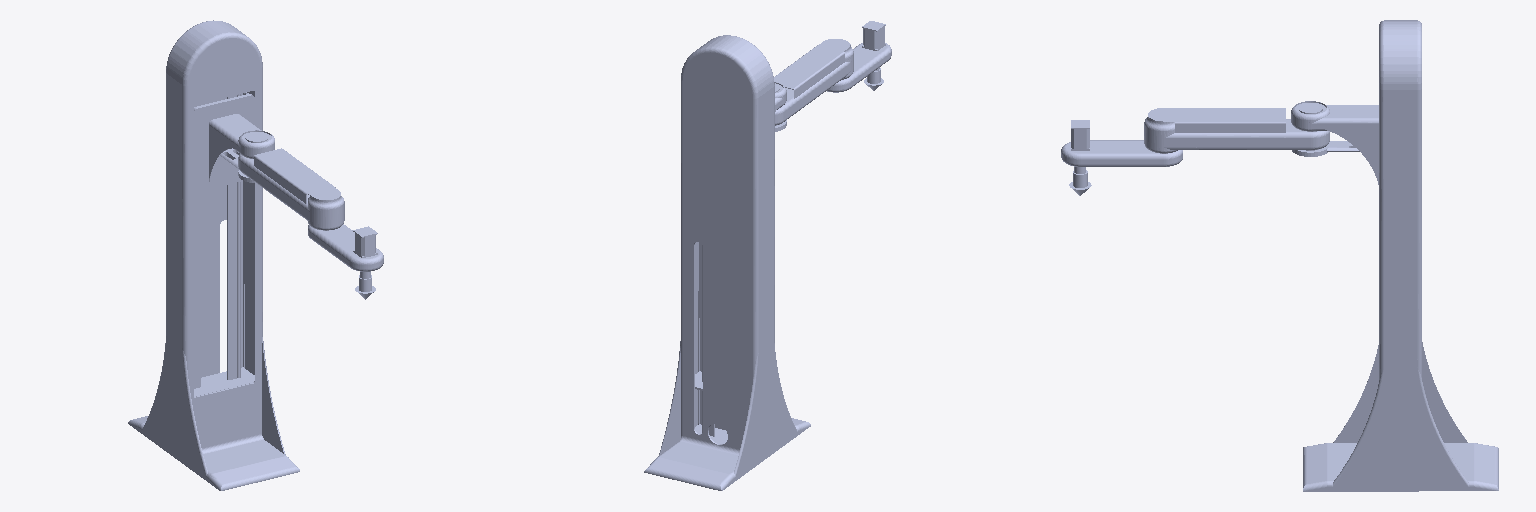
The robot description file, URDF, robot "igus_description":
<?xml version="1.0" encoding="utf-8"?>
<!-- This URDF was automatically created by SolidWorks to URDF Exporter! Originally created by [author] ([email redacted]) 
     Commit Version: 1.6.0-4-g7f85cfe  Build Version: 1.6.7995.38578
     For more information, please see http://wiki.ros.org/sw_urdf_exporter -->
<robot
  name="igus_description">

  <link name="world"/>

  <joint name="base_joint" type="fixed">
    <parent link="world"/>
    <child link="base_link"/>
    <origin rpy="0 0 3.142" xyz="0.0 0.0 0.0"/>
  </joint>

  <link
    name="base_link">
    <inertial>
      <origin
        xyz="0.00060987 -0.0041281 0.28783"
        rpy="0 0 0" />
      <!--<mass
        value="3.8503" />-->
        <mass
        value="10" />
      <inertia
        ixx="0.41874"
        ixy="8.8766E-05"
        ixz="-6.9146E-06"
        iyy="0.41533"
        iyz="0.0042277"
        izz="0.038257" />
    </inertial>
    <visual>
      <origin
        xyz="0 0 0"
        rpy="0 0 0" />
      <geometry>
        <mesh
          filename="package://igus_description/meshes/base_link.STL" />
      </geometry>
      <material
        name="">
        <color
          rgba="0.79216 0.81961 0.93333 1" />
      </material>
    </visual>
    <collision>
      <origin
        xyz="0 0 0"
        rpy="0 0 0" />
      <geometry>
        <mesh
          filename="package://igus_description/meshes/base_link.STL" />
      </geometry>
    </collision>
  </link>
  <link
    name="prism_link">
    <inertial>
      <origin
        xyz="0.098545 1.5436E-08 0.029147"
        rpy="0 0 0" />
      <mass
        value="0.82467" />
      <inertia
        ixx="0.0024655"
        ixy="-3.8705E-10"
        ixz="-0.00050705"
        iyy="0.0033628"
        iyz="1.2294E-10"
        izz="0.0025901" />
    </inertial>
    <visual>
      <origin
        xyz="0 0 0"
        rpy="0 0 0" />
      <geometry>
        <mesh
          filename="package://igus_description/meshes/prism_link.STL" />
      </geometry>
      <material
        name="">
        <color
          rgba="0.79216 0.81961 0.93333 1" />
      </material>
    </visual>
    <collision>
      <origin
        xyz="0 0 0"
        rpy="0 0 0" />
      <geometry>
        <mesh
          filename="package://igus_description/meshes/prism_link.STL" />
      </geometry>
    </collision>
  </link>
  <joint
    name="prism_joint"
    type="prismatic">
    <origin
      xyz="0 0 0.74133"
      rpy="0 0 1.5708" />
    <parent
      link="base_link" />
    <child
      link="prism_link" />
    <axis
      xyz="0 0 -1" />
    <limit
      lower="0"
      upper="0.495"
      effort="100000"
      velocity="5" />
    <dynamics
      damping="0.1"
      friction="0.1" />
  </joint>
  <link
    name="rot_1_link">
    <inertial>
      <origin
        xyz="0.16926 -3.5483E-07 0.020067"
        rpy="0 0 0" />
      <mass
        value="1.3165" />
      <inertia
        ixx="0.00098867"
        ixy="-1.6132E-08"
        ixz="-0.00030206"
        iyy="0.015621"
        iyz="1.2571E-08"
        izz="0.01592" />
    </inertial>
    <visual>
      <origin
        xyz="0 0 0"
        rpy="0 0 0" />
      <geometry>
        <mesh
          filename="package://igus_description/meshes/rot_1_link.STL" />
      </geometry>
      <material
        name="">
        <color
          rgba="0.79216 0.81961 0.93333 1" />
      </material>
    </visual>
    <collision>
      <origin
        xyz="0 0 0"
        rpy="0 0 0" />
      <geometry>
        <mesh
          filename="package://igus_description/meshes/rot_1_link.STL" />
      </geometry>
    </collision>
  </link>
  <joint
    name="rot_1_joint"
    type="revolute">
    <origin
      xyz="0.184 0 0"
      rpy="0 0 0" />
    <parent
      link="prism_link" />
    <child
      link="rot_1_link" />
    <axis
      xyz="0 0 1" />
    <limit
      lower="-1.57"
      upper="1.57"
      effort="100000"
      velocity="5" />
    <dynamics
      damping="0.1"
      friction="0.1" />
  </joint>
  <link
    name="rot_2_link">
    <inertial>
      <origin
        xyz="0.10239 -1.6692E-17 -0.024764"
        rpy="0 0 0" />
      <mass
        value="0.66429" />
      <inertia
        ixx="0.00032966"
        ixy="-3.0928E-20"
        ixz="-8.2328E-06"
        iyy="0.0024737"
        iyz="-4.0017E-21"
        izz="0.0026703" />
    </inertial>
    <visual>
      <origin
        xyz="0 0 0"
        rpy="0 0 0" />
      <geometry>
        <mesh
          filename="package://igus_description/meshes/rot_2_link.STL" />
      </geometry>
      <material
        name="">
        <color
          rgba="0.79216 0.81961 0.93333 1" />
      </material>
    </visual>
    <collision>
      <origin
        xyz="0 0 0"
        rpy="0 0 0" />
      <geometry>
        <mesh
          filename="package://igus_description/meshes/rot_2_link.STL" />
      </geometry>
    </collision>
  </link>
  <joint
    name="rot_2_joint"
    type="revolute">
    <origin
      xyz="0.3 0 0"
      rpy="0 0 0" />
    <parent
      link="rot_1_link" />
    <child
      link="rot_2_link" />
    <axis
      xyz="0 0 1" />
    <limit
      lower="-1.57"
      upper="1.57"
      effort="100000"
      velocity="5" />
    <dynamics
      damping="0.1"
      friction="0.1" />
  </joint>
  <link
    name="tcp_link">
    <inertial>
      <origin
        xyz="-0.51654 0.00035286 0.13491"
        rpy="0 0 0" />
      <mass
        value="6.6558" />
      <inertia
        ixx="0.79615"
        ixy="0.00042314"
        ixz="0.24301"
        iyy="1.093"
        iyz="-0.00047912"
        izz="0.33517" />
    </inertial>
    <visual>
      <origin
        xyz="0 0 0"
        rpy="0 0 0" />
      <geometry>
        <mesh
          filename="package://igus_description/meshes/tcp_link.STL" />
      </geometry>
      <material
        name="">
        <color
          rgba="1 1 1 1" />
      </material>
    </visual>
    <collision>
      <origin
        xyz="0 0 0"
        rpy="0 0 0" />
      <geometry>
        <mesh
          filename="package://igus_description/meshes/tcp_link.STL" />
      </geometry>
    </collision>
  </link>
  <joint
    name="tcp_joint"
    type="fixed">
    <!-- <origin
      xyz="0.17077 0 -0.12233"
      rpy="3.1416 0 0" /> -->
      <origin
      xyz="0.17077 0 -0.12233"
      rpy="0 0 0" /> 
    <parent
      link="rot_2_link" />
    <child
      link="tcp_link" />
    <axis
      xyz="0 0 0" />
  </joint>

  <transmission name="prism_link_trans">
    <type>transmission_interface/SimpleTransmission</type>
    <joint name="prism_joint">
      <hardwareInterface>hardware_interface/PositionJointInterface</hardwareInterface>
    </joint>
    <actuator name="prism_link_motor">
      <hardwareInterface>hardware_interface/PositionJointInterface</hardwareInterface>
      <mechanicalReduction>1</mechanicalReduction>
    </actuator>
  </transmission>

  <transmission name="rot_1_link_trans">
    <type>transmission_interface/SimpleTransmission</type>
    <joint name="rot_1_joint">
      <hardwareInterface>hardware_interface/PositionJointInterface</hardwareInterface>
    </joint>
    <actuator name="rot_1_link_motor">
      <hardwareInterface>hardware_interface/PositionJointInterface</hardwareInterface>
      <mechanicalReduction>1</mechanicalReduction>
    </actuator>
  </transmission>

  <transmission name="rot_2_link_trans">
    <type>transmission_interface/SimpleTransmission</type>
    <joint name="rot_2_joint">
      <hardwareInterface>hardware_interface/PositionJointInterface</hardwareInterface>
    </joint>
    <actuator name="rot_2_link_motor">
      <hardwareInterface>hardware_interface/PositionJointInterface</hardwareInterface>
      <mechanicalReduction>1</mechanicalReduction>
    </actuator>
  </transmission>

  <!--<transmission name="tcp_link_trans">
    <type>transmission_interface/SimpleTransmission</type>
    <joint name="tcp_joint">
      <hardwareInterface>hardware_interface/PositionJointInterface</hardwareInterface>
    </joint>
    <actuator name="tcp_link_motor">
      <hardwareInterface>hardware_interface/PositionJointInterface</hardwareInterface>
      <mechanicalReduction>1</mechanicalReduction>
    </actuator>
  </transmission>-->

  <gazebo>
    <plugin name="control" filename="libgazebo_ros_control.so">
      <robotNamespace>/</robotNamespace>
    </plugin>
  </gazebo>

  <gazebo reference="prism_link">
    <selfCollide>true</selfCollide>
  </gazebo>

  <gazebo reference="rot_1_link">
    <selfCollide>true</selfCollide>
  </gazebo>

  <gazebo reference="rot_2_link">
    <selfCollide>true</selfCollide>
  </gazebo>



</robot>

--- What the picture shows (computed from the rendered views, not written in the file) ---
The picture shows the robot from 3 angles, left to right: view 1: azimuth 30°, elevation 25°; view 2: azimuth 150°, elevation 25°; view 3: azimuth 270°, elevation 25°; orthographic projection.
Model igus_description with 6 links and 5 joints (2 revolute, 1 prismatic, 2 fixed), rooted at world, posed every joint at zero.
Links seen in each view (by area): view 1: base_link, prism_link, rot_1_link, rot_2_link; view 2: base_link, rot_1_link, rot_2_link; view 3: base_link, rot_1_link, prism_link, rot_2_link.
Link boxes in pixels (x1,y1,x2,y2): base_link: [128, 20, 299, 490]; prism_link: [194, 92, 274, 191]; rot_1_link: [238, 148, 344, 230]; rot_2_link: [308, 224, 383, 299]; base_link: [644, 35, 810, 490]; rot_1_link: [774, 39, 853, 125]; rot_2_link: [827, 21, 891, 92]; base_link: [1303, 20, 1498, 491]; rot_1_link: [1144, 108, 1329, 153]; prism_link: [1291, 101, 1378, 184]; rot_2_link: [1061, 120, 1182, 195].
Size in the robot's own frame: 0.2002 by 0.8942 by 1 metres.
Meshes: 5 distinct files referenced, 4 mesh visuals loaded (4 binary STL); not drawn: 1 (file found but could not be loaded).
